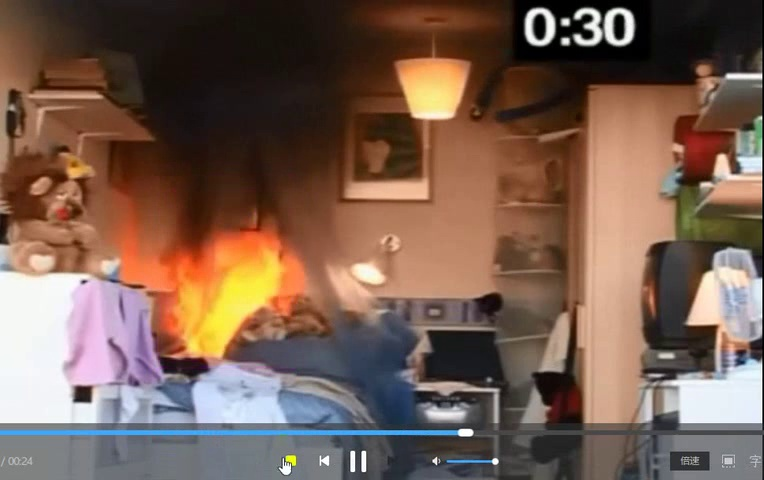fire: (156, 206, 301, 362)
